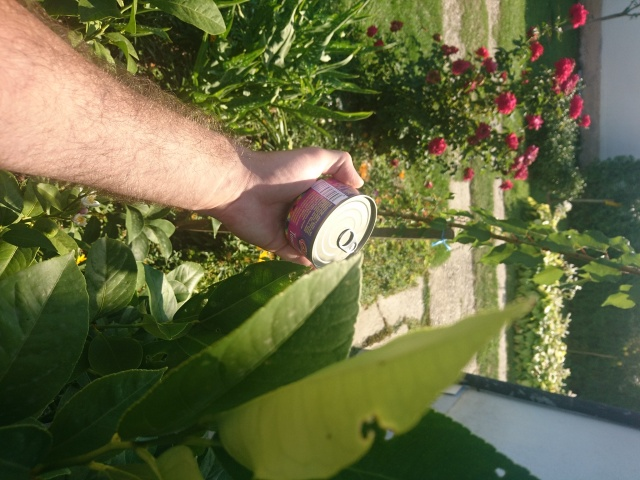Giana Tuna Salad Mexico 185g: (280, 174, 379, 271)
